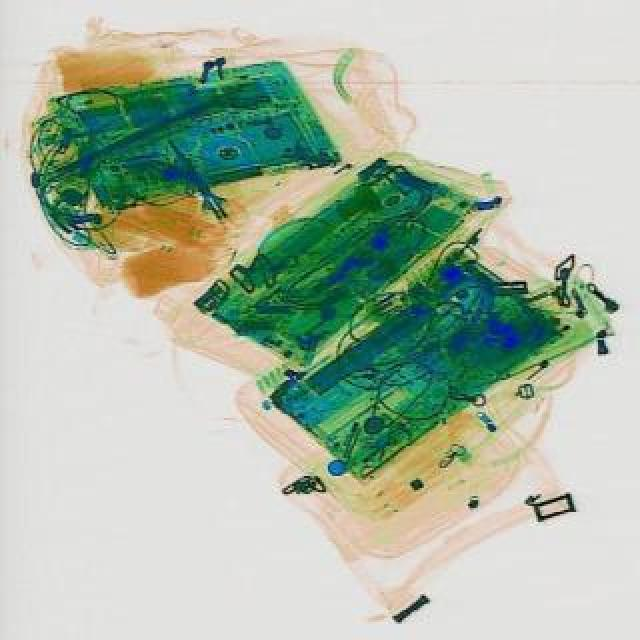knife: (154, 130, 236, 226)
